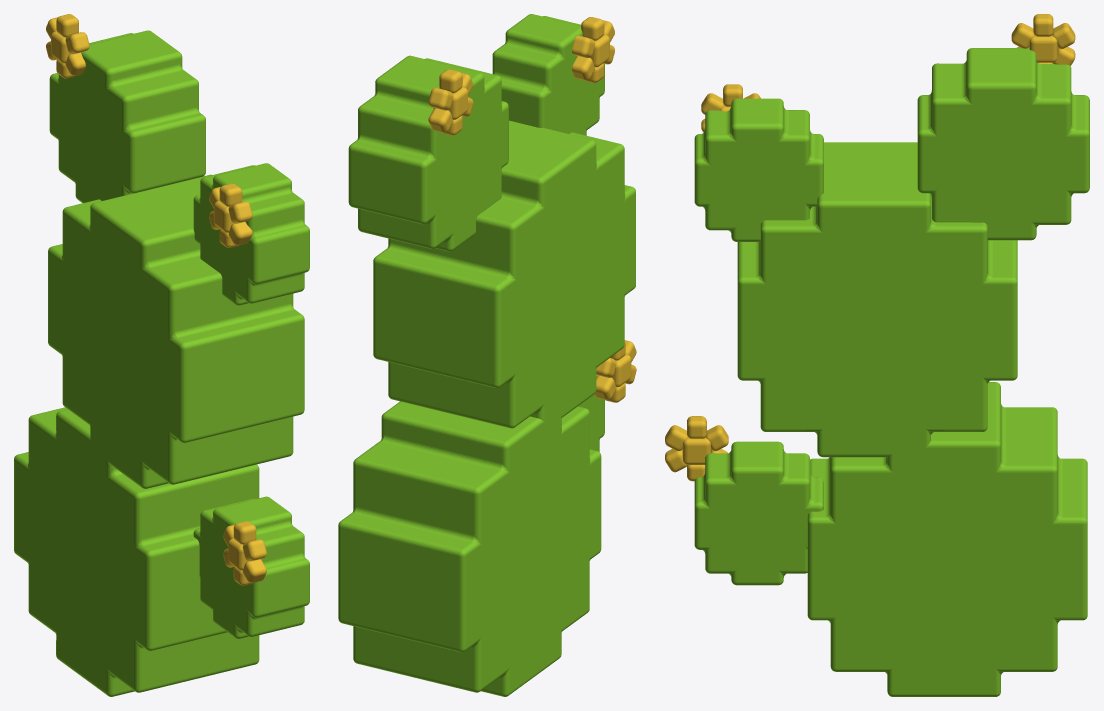
3 views of the same model, side by side, from view 1: azimuth 30°, elevation 25°; view 2: azimuth 150°, elevation 25°; view 3: azimuth 270°, elevation 25° (orthographic). The views are drawn at different scales.
Parts seen in each view (by area): view 1: BipJamExport_cactus1; view 2: BipJamExport_cactus1; view 3: BipJamExport_cactus1.
Part boxes in pixels (x1=…): BipJamExport_cactus1: x1=14, y1=14, x2=309, y2=696; BipJamExport_cactus1: x1=338, y1=14, x2=636, y2=696; BipJamExport_cactus1: x1=665, y1=14, x2=1089, y2=696.
Size of the model in its own units: 0.2798 by 1.33 by 0.8041.
